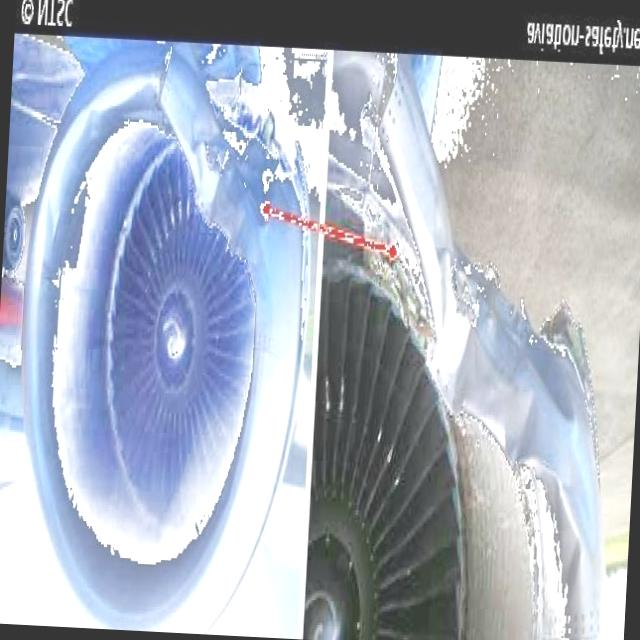dent: (173, 44, 407, 265), (477, 320, 581, 422), (551, 480, 598, 620), (503, 382, 542, 464)
